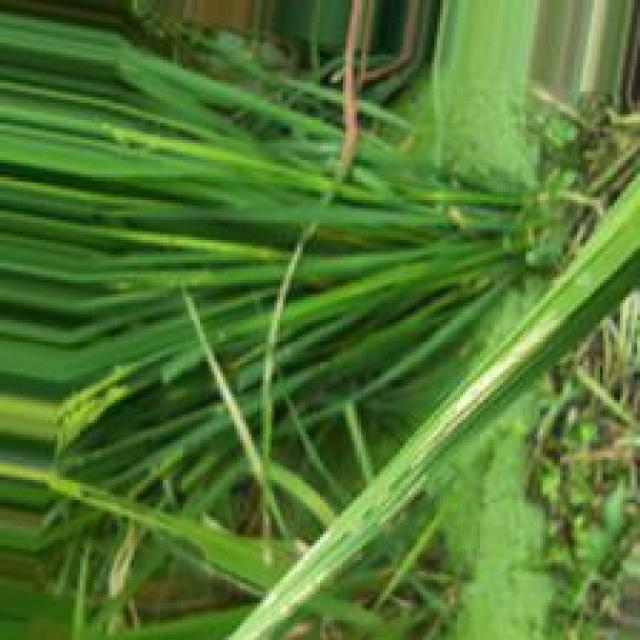Rice_Hispa: (436, 313, 565, 445)
